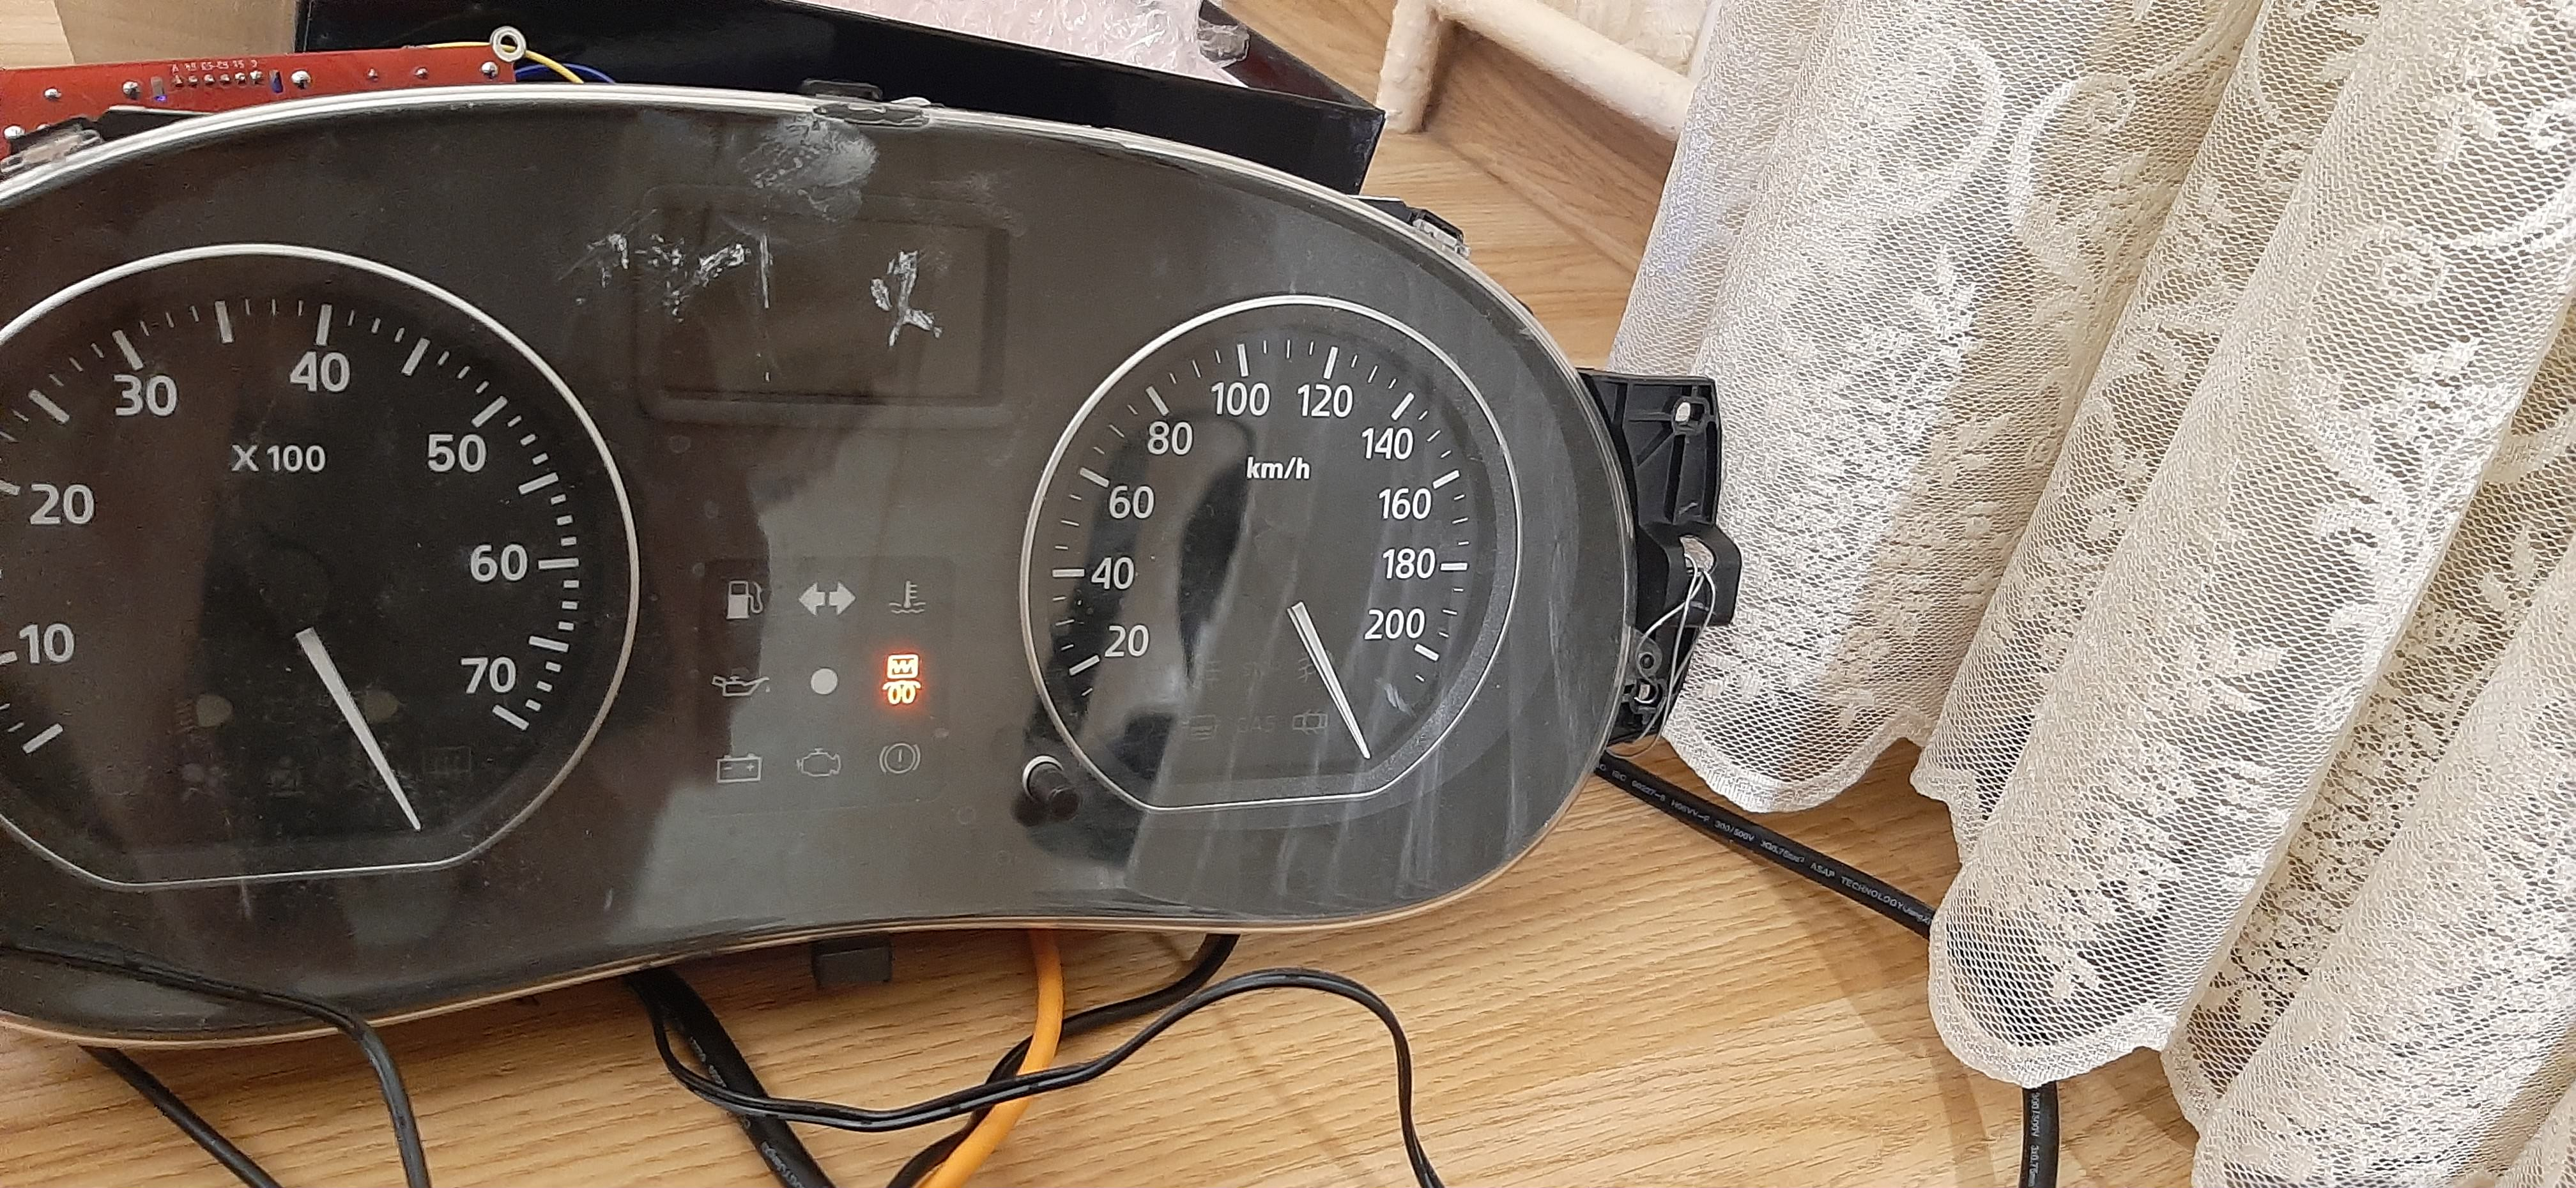diesel13: (881, 652, 923, 708)
